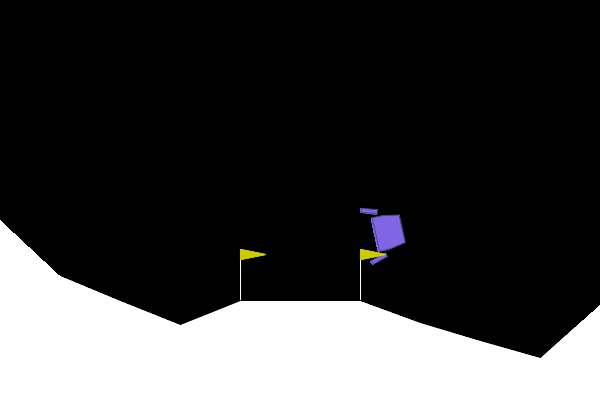lander: (358, 199, 410, 266)
